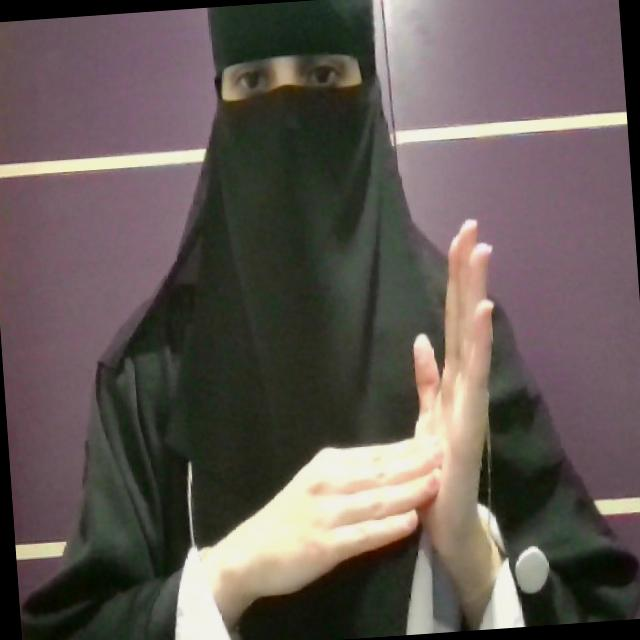complaint: (189, 210, 522, 617)
